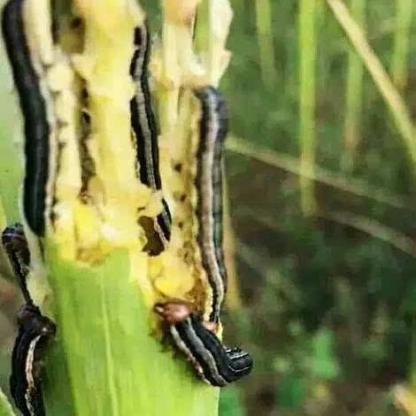armyworm: (0, 0, 66, 235), (190, 81, 249, 320), (125, 19, 182, 247), (140, 292, 260, 393), (0, 219, 56, 335), (5, 315, 61, 416)
